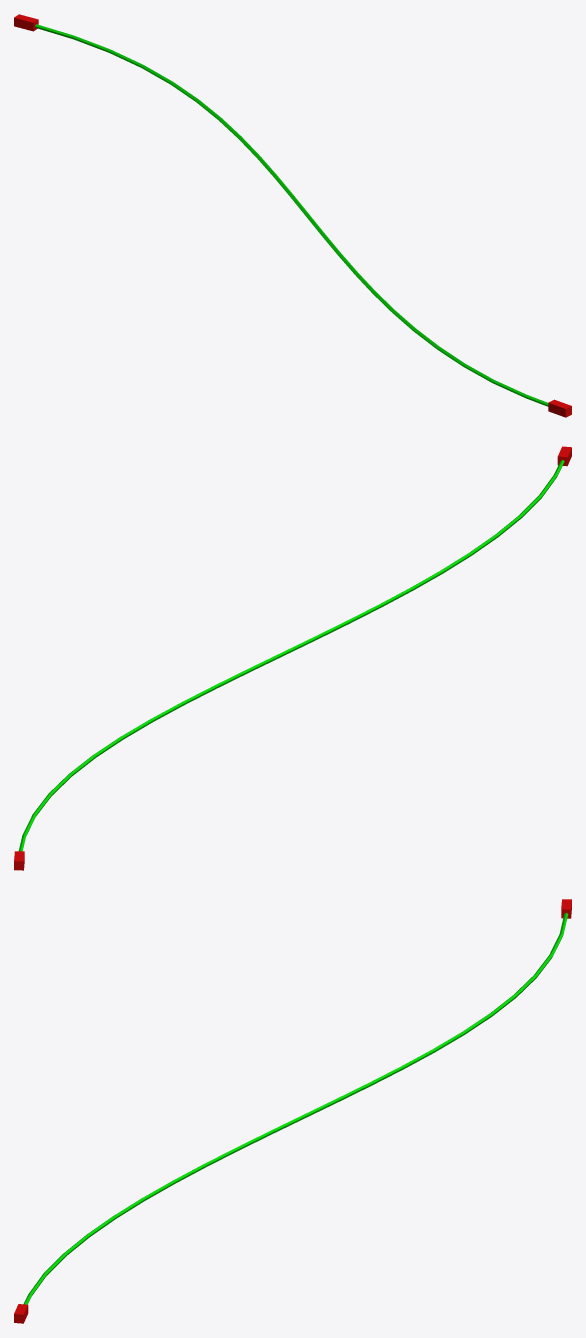
Rendered from Fibre Optic Cable Unfolded.fbx.
3 renders of one model, top to bottom at view 1: azimuth 30°, elevation 25°; view 2: azimuth 150°, elevation 25°; view 3: azimuth 330°, elevation 25°, orthographic. The views are drawn at different scales.
Visible parts, largest first — view 1: Fibre Optic Cable Unfolded; view 2: Fibre Optic Cable Unfolded; view 3: Fibre Optic Cable Unfolded.
Boxes of the visible parts, x1,y1,x2,y2 form: Fibre Optic Cable Unfolded: [14, 14, 571, 417]; Fibre Optic Cable Unfolded: [14, 446, 571, 870]; Fibre Optic Cable Unfolded: [14, 899, 571, 1323].
Size of the model in its own units: 3.38 by 0.3745 by 41.63.
